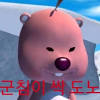Loopy: (15, 6, 89, 100)
